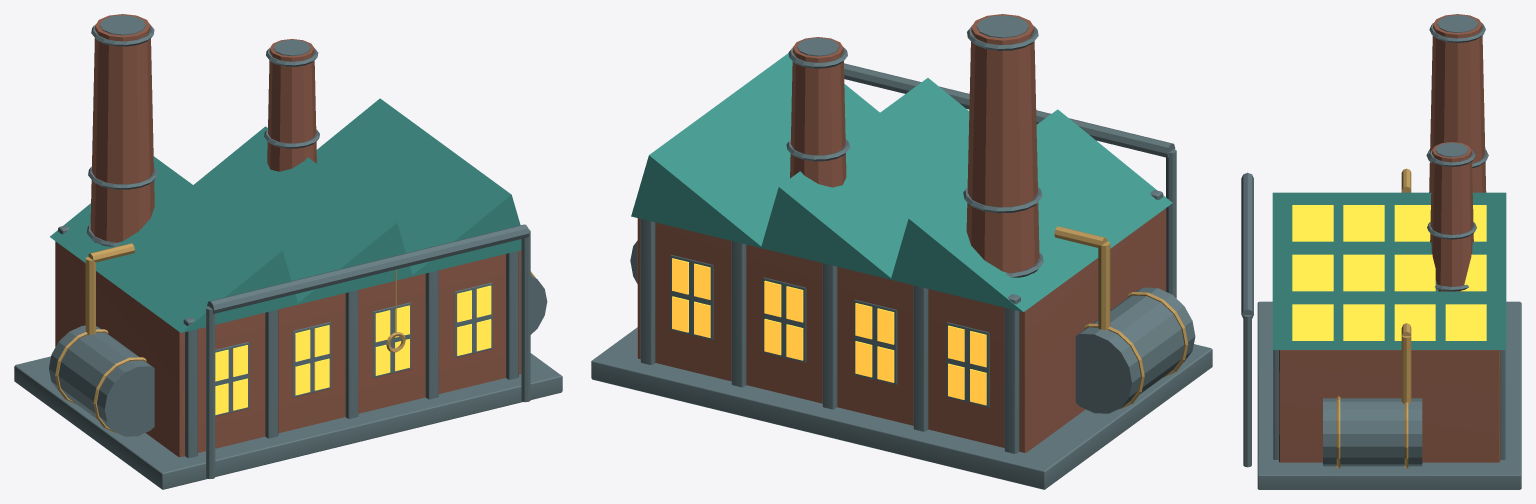
File: world-foundry.glb
3 renders of one model, left to right at view 1: azimuth 30°, elevation 25°; view 2: azimuth 150°, elevation 25°; view 3: azimuth 270°, elevation 25°, orthographic. The views are drawn at different scales.
Visible parts, largest first — view 1: world-foundry / Copper verdigris, world-foundry / Hanseatic red brick, world-foundry / Abyssal iron, world-foundry / Sulphur amber light, world-foundry / Weathered maritime brass; view 2: world-foundry / Hanseatic red brick, world-foundry / Copper verdigris, world-foundry / Abyssal iron, world-foundry / Sulphur amber light, world-foundry / Weathered maritime brass; view 3: world-foundry / Hanseatic red brick, world-foundry / Abyssal iron, world-foundry / Copper verdigris, world-foundry / Sulphur amber light, world-foundry / Weathered maritime brass.
Boxes of the visible parts, x1,y1,x2,y2 form: world-foundry / Copper verdigris: (50, 98, 521, 332); world-foundry / Hanseatic red brick: (55, 14, 521, 457); world-foundry / Abyssal iron: (14, 15, 562, 489); world-foundry / Sulphur amber light: (215, 285, 491, 414); world-foundry / Weathered maritime brass: (55, 243, 535, 432); world-foundry / Hanseatic red brick: (637, 14, 1166, 452); world-foundry / Copper verdigris: (631, 53, 1172, 311); world-foundry / Abyssal iron: (591, 15, 1212, 489); world-foundry / Sulphur amber light: (672, 258, 986, 405); world-foundry / Weathered maritime brass: (1054, 226, 1188, 409); world-foundry / Hanseatic red brick: (1279, 14, 1500, 462); world-foundry / Abyssal iron: (1241, 15, 1521, 489); world-foundry / Copper verdigris: (1272, 192, 1506, 349); world-foundry / Sulphur amber light: (1292, 205, 1486, 340); world-foundry / Weathered maritime brass: (1336, 168, 1411, 468).
Bounding box in the file's own units: 16.18 × 12.63 × 9.87.
